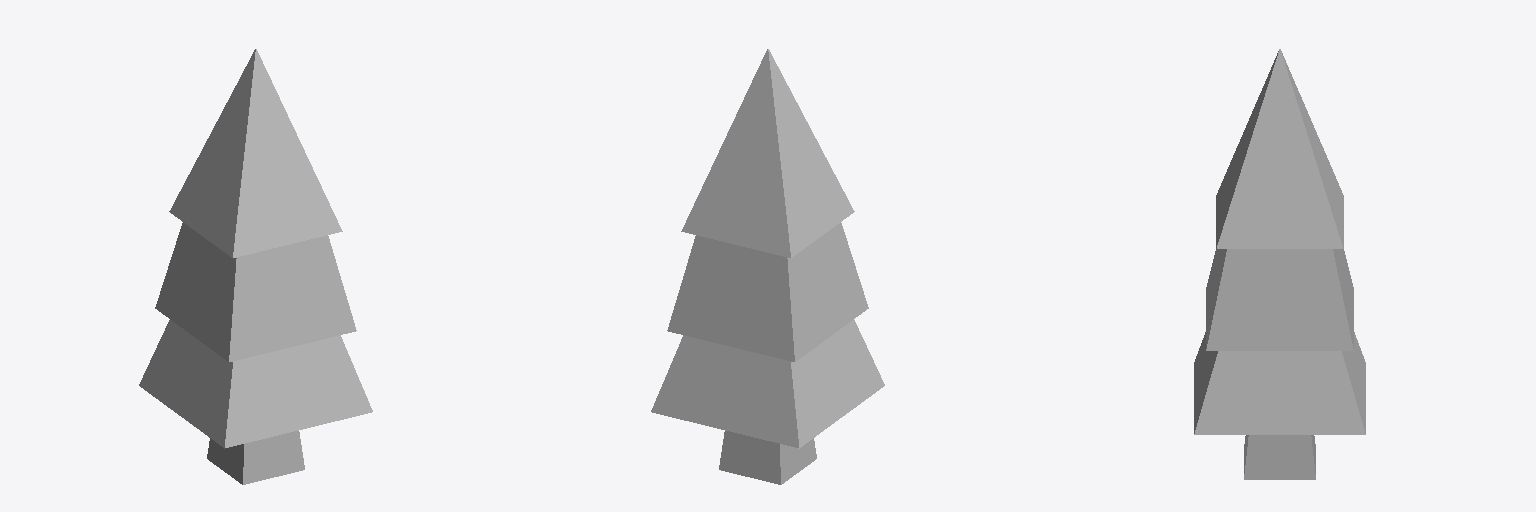
Rendered from tree_pineSmallD.obj.
3 views of the same model, side by side, from view 1: azimuth 30°, elevation 25°; view 2: azimuth 150°, elevation 25°; view 3: azimuth 270°, elevation 25° (orthographic).
Parts seen in each view (by area): view 1: tree_pineSmallD; view 2: tree_pineSmallD; view 3: tree_pineSmallD.
Boxes of the visible parts, x1,y1,x2,y2 form: tree_pineSmallD: [139, 49, 372, 484]; tree_pineSmallD: [651, 49, 884, 484]; tree_pineSmallD: [1194, 49, 1365, 479].
Bounding box in the file's own units: 0.357 × 0.9556 × 0.357.